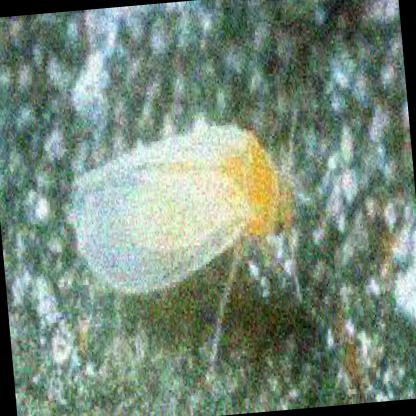whitefly: (74, 124, 299, 296)
